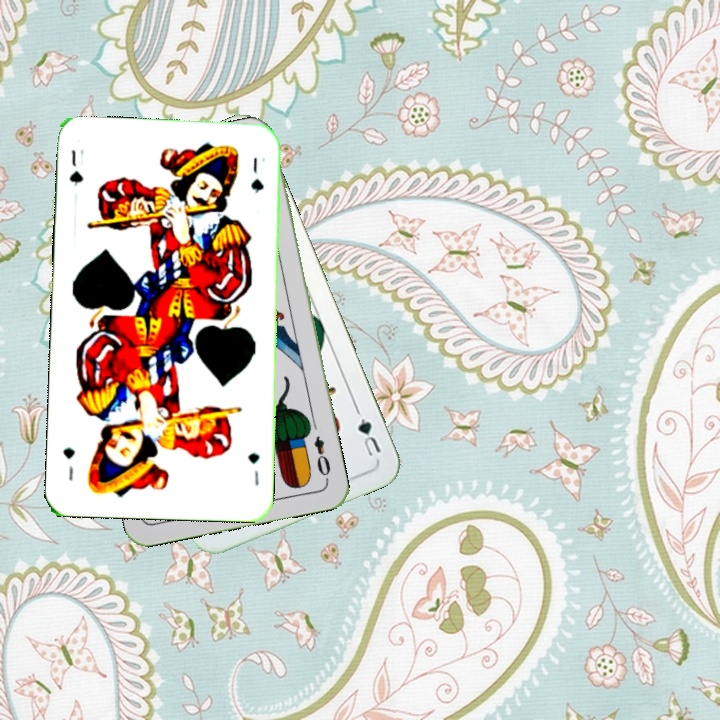EO: (310, 432, 333, 484)
GU: (353, 414, 384, 459), (65, 145, 86, 189), (243, 449, 262, 488)
